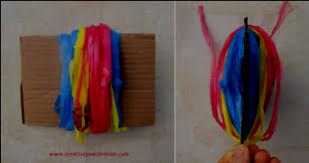Plastic: (58, 24, 121, 136), (196, 15, 242, 137), (247, 21, 282, 143)
